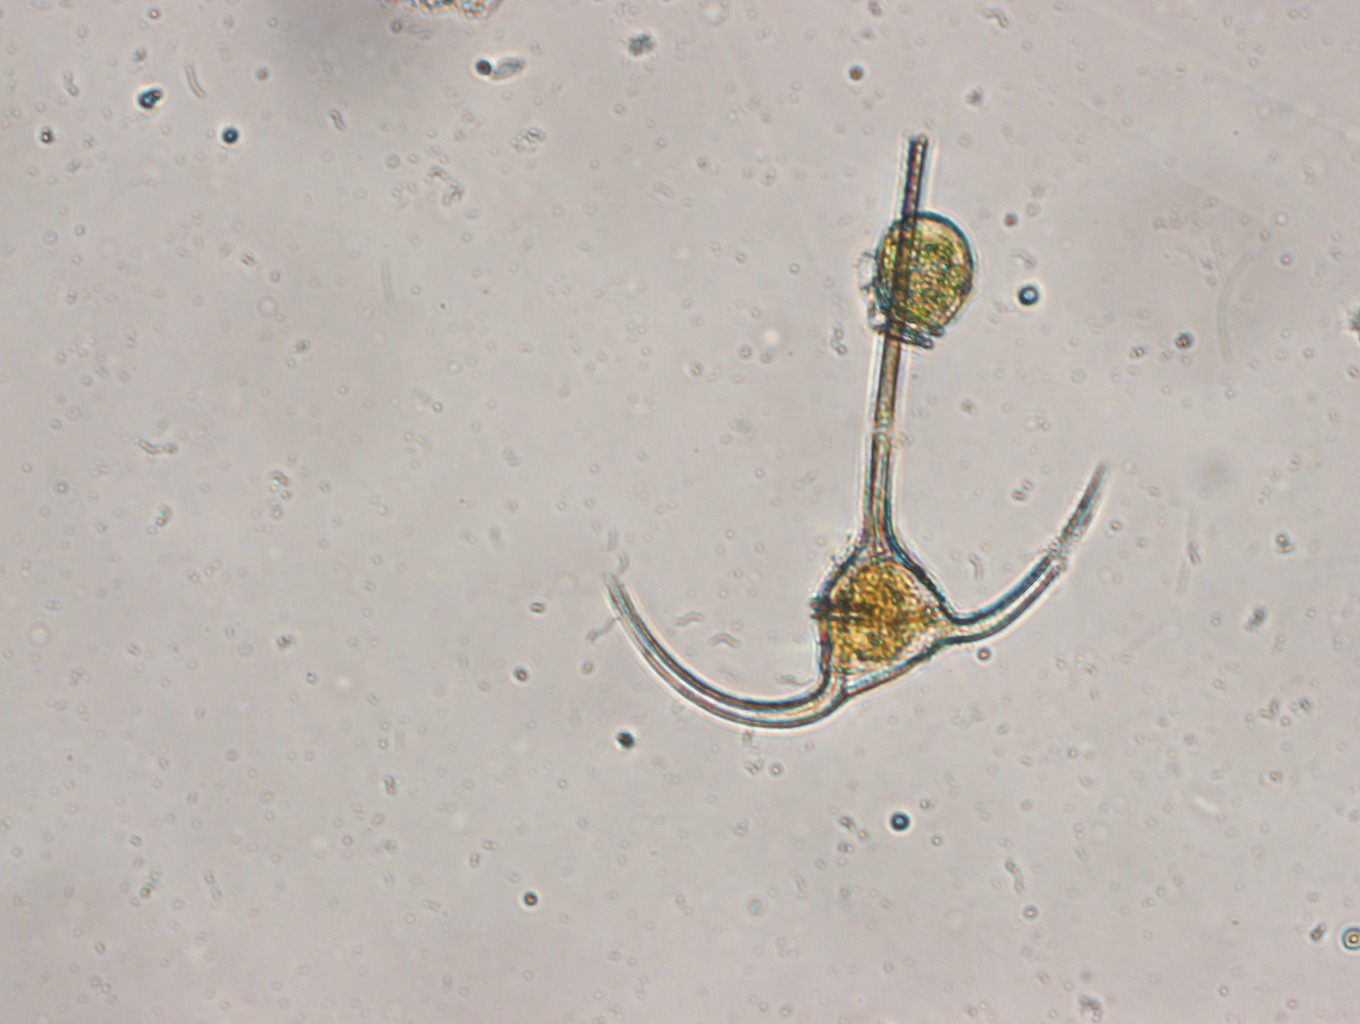ceratium trichoceros: (592, 128, 1112, 735)
